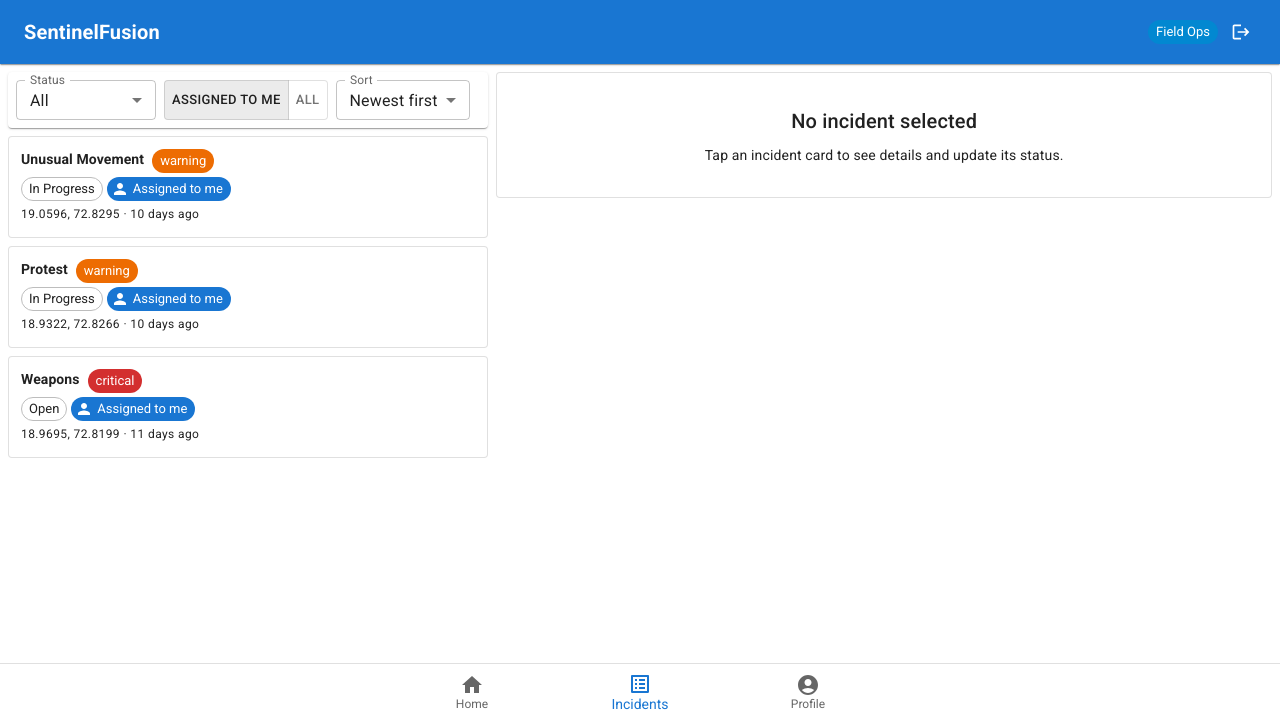
Test: FieldOpsView › filters incidents by status
This screenshot has width=1280, height=720.
Expected: the heading "Weapons" is shown, x1=21 y1=369 x2=80 y2=393
Press the mouse on the dropdown named "Status": (39, 100) x1=30 y1=90 x2=49 y2=110
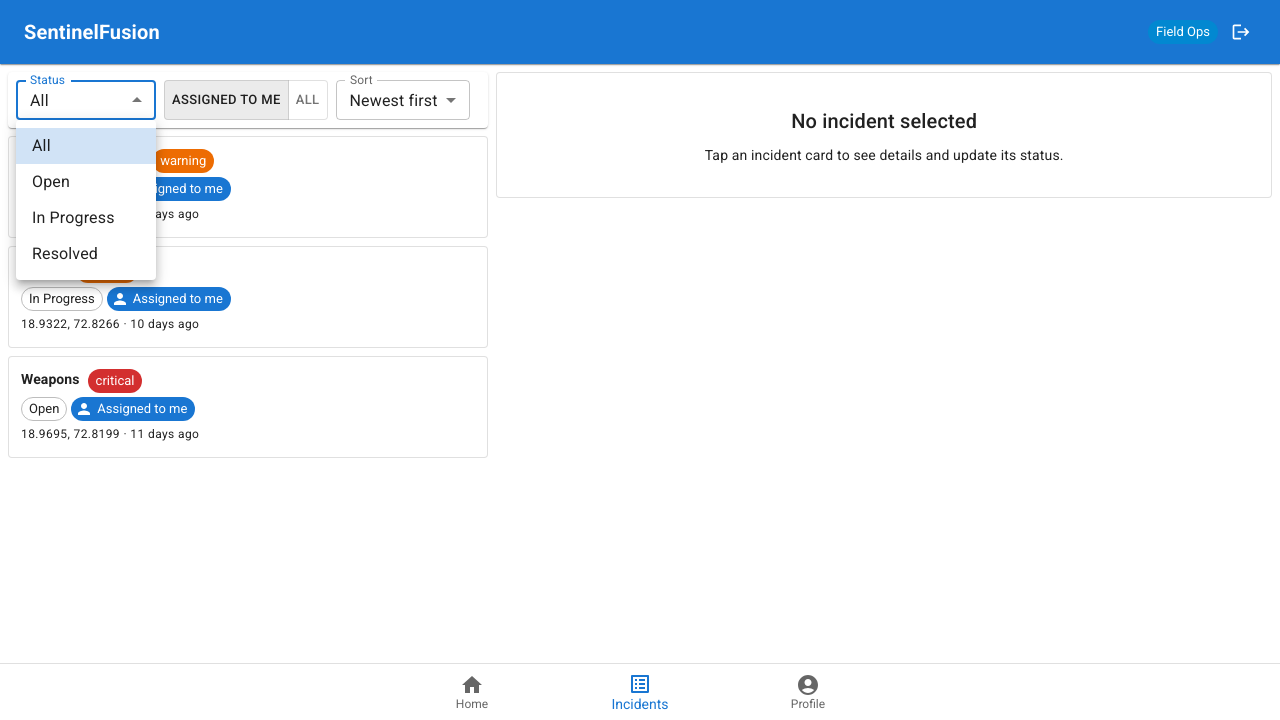
Click the option "Open": click(51, 182) x1=32 y1=172 x2=70 y2=191
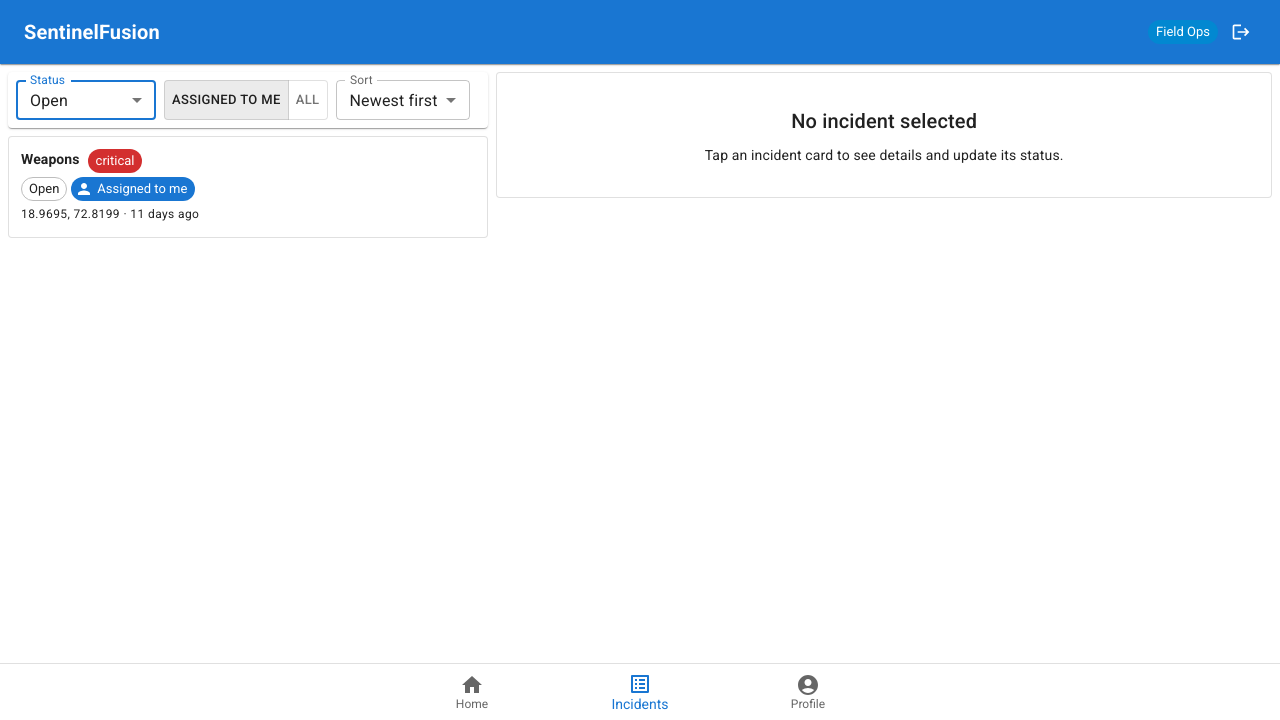
Expected: the heading "Weapons" is shown, x1=21 y1=149 x2=80 y2=173
Result: the button "Protest" is gone
Result: the button "Unusual Movement" is gone
